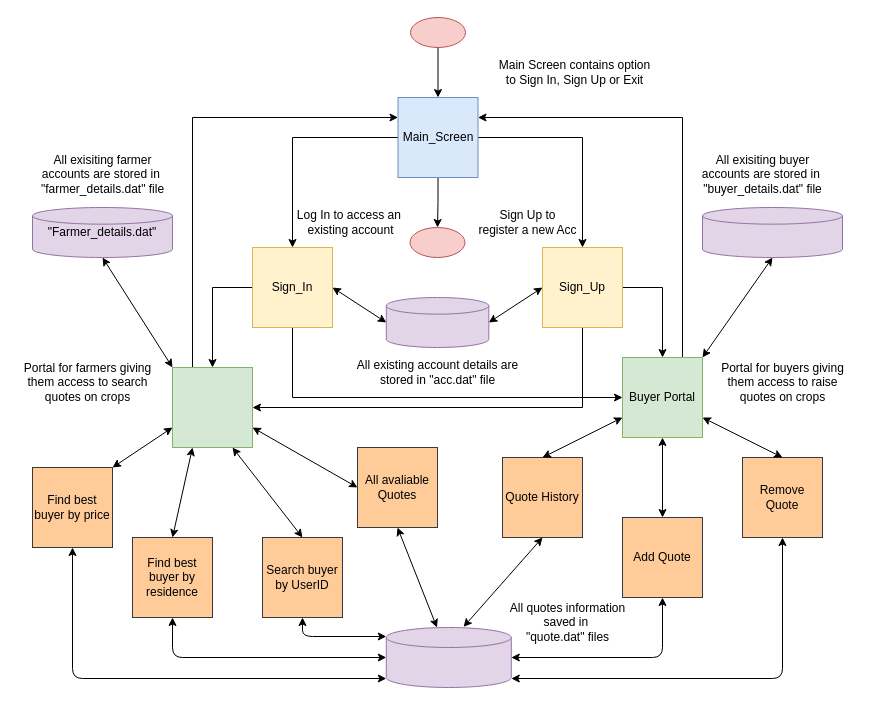
Image size: 869x705. Some labels were removed from this diagram. The shapes that lost their labels are listed below. From the top down, each one's centre as x and y in pixels, then its label:
the point at 438,32: Start
the point at 437,242: End
the point at 772,232: "Buyer_details.dat"
the point at 437,322: "Acc.dat"
the point at 212,407: Farmer Portal
the point at 448,657: "Quote.dat"
